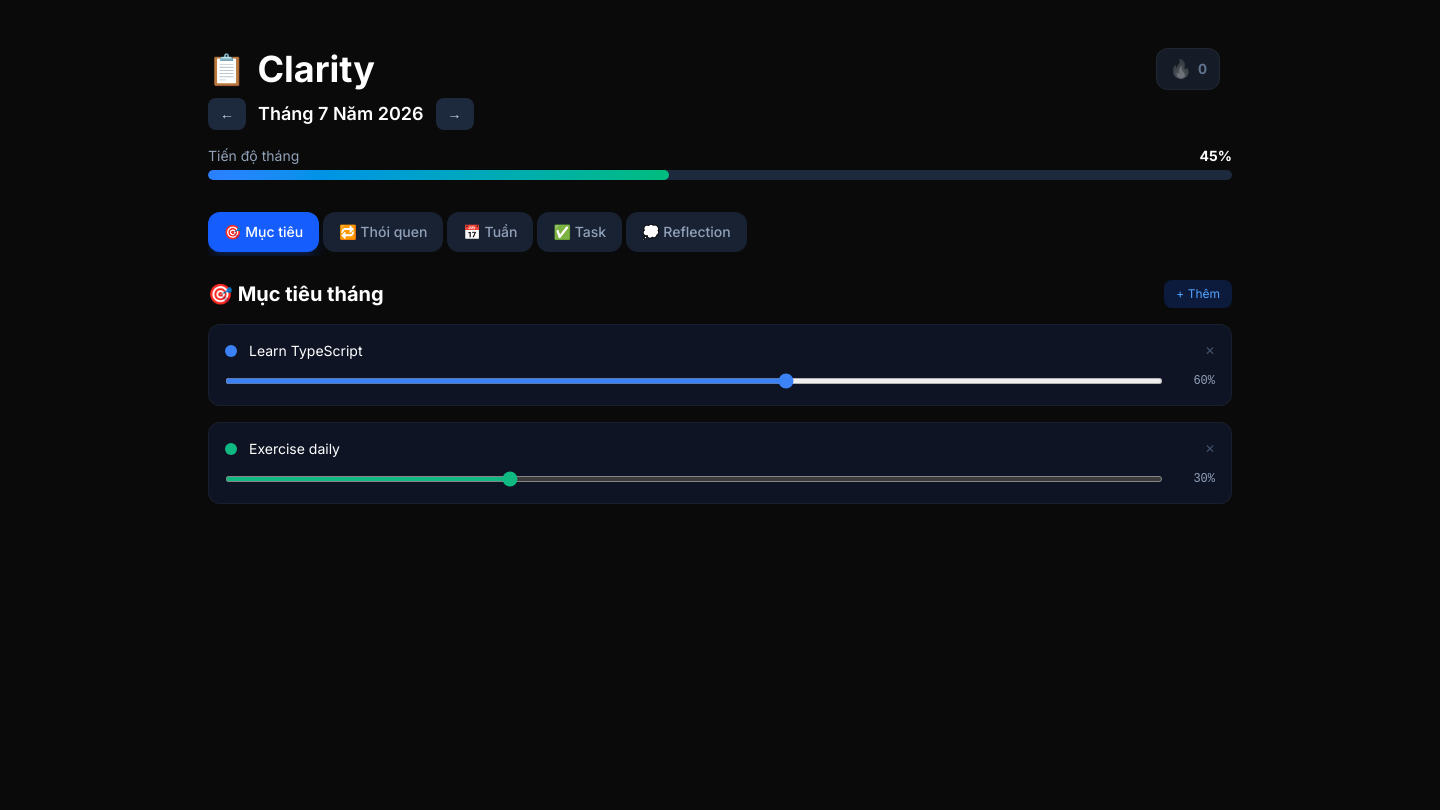
ClarityClient › switches to reflection tab
Expected: the heading "Clarity" is shown, [257,49,375,89]
Click the text "💭 Reflection": (686, 232) [642,223,731,240]
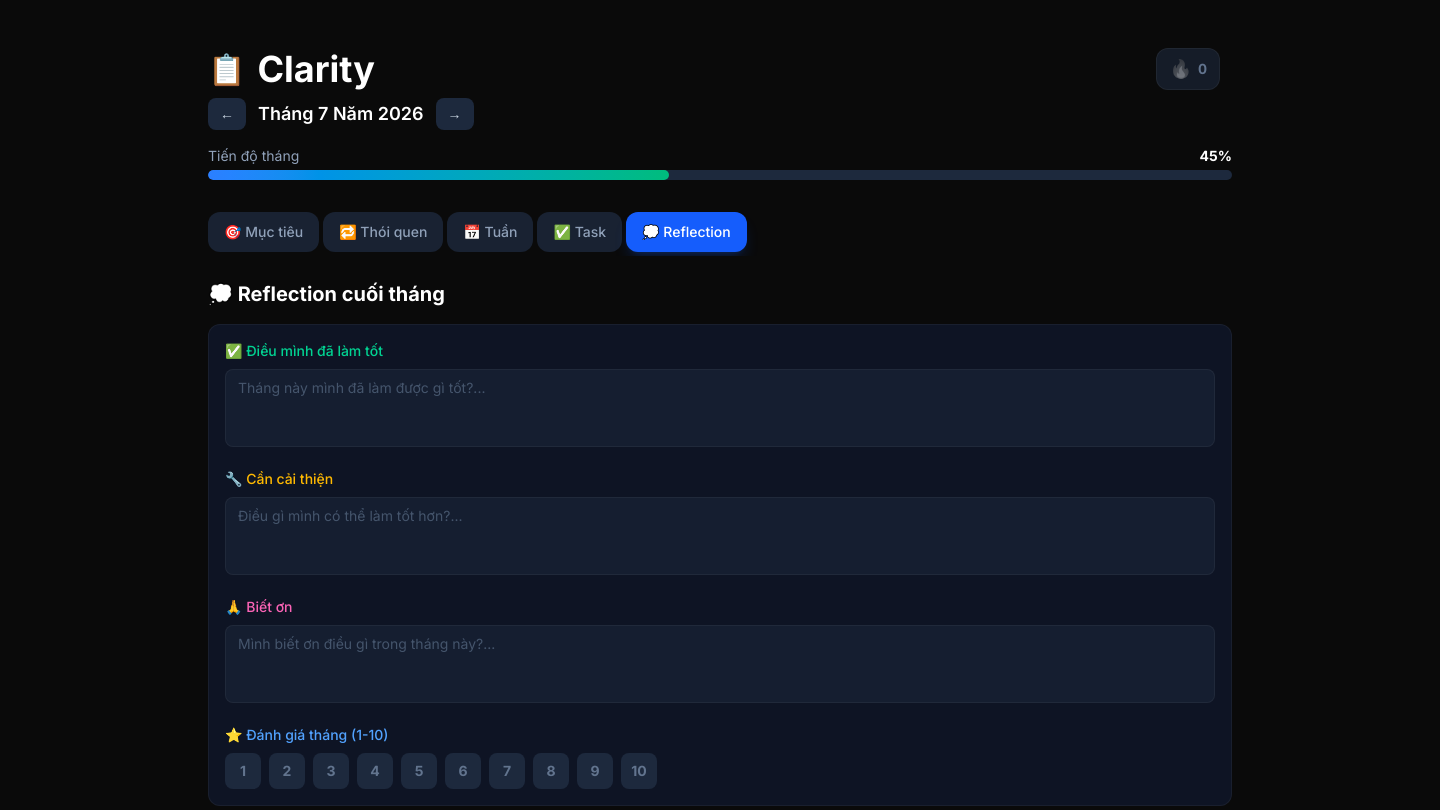
Result: the heading "💭 Reflection cuối tháng" is shown at [208,282,445,306]
Result: the text box with placeholder "Tháng này mình đã làm được gì tốt?..." is shown at [225,369,1215,447]
